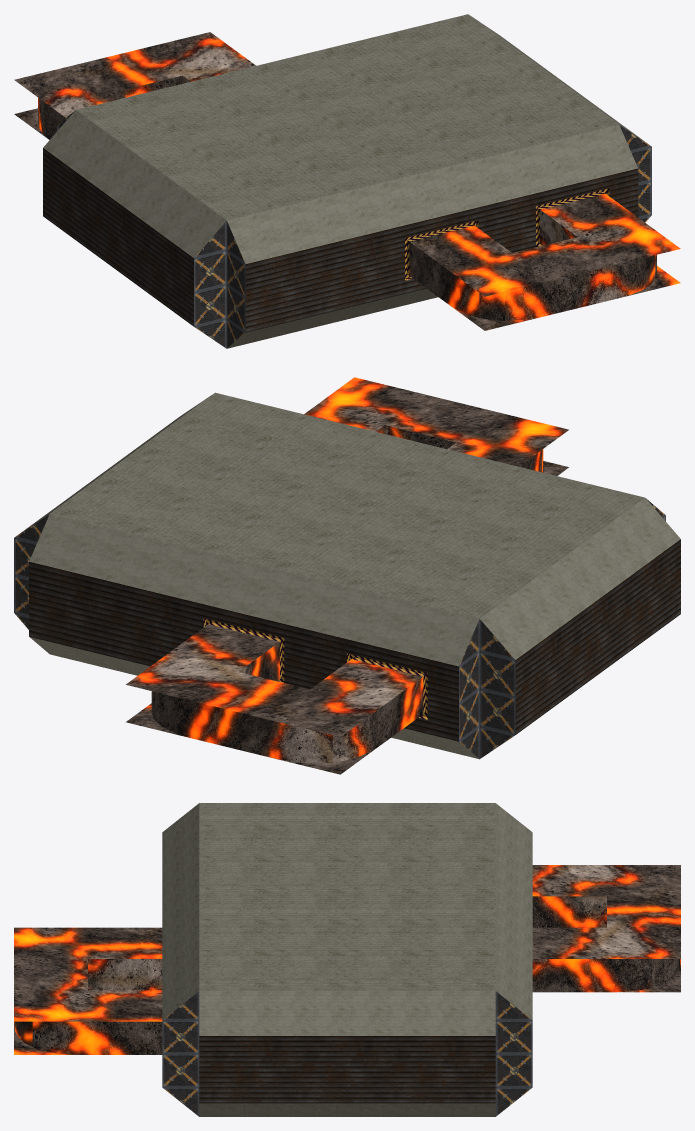
Rendered from level1.fbx.
3 renders of one model, top to bottom at view 1: azimuth 30°, elevation 25°; view 2: azimuth 150°, elevation 25°; view 3: azimuth 270°, elevation 25°, orthographic. The views are drawn at different scales.
Visible parts, largest first — view 1: ship_mp1; view 2: ship_mp1; view 3: ship_mp1.
Boxes of the visible parts, left/top/right/bottom form: ship_mp1: left=14, top=14, right=680, bottom=348; ship_mp1: left=14, top=377, right=680, bottom=774; ship_mp1: left=14, top=803, right=680, bottom=1116.
Size of the model in its own units: 3584 by 960 by 4608.
Materials: 6 (6 with a texture image).
